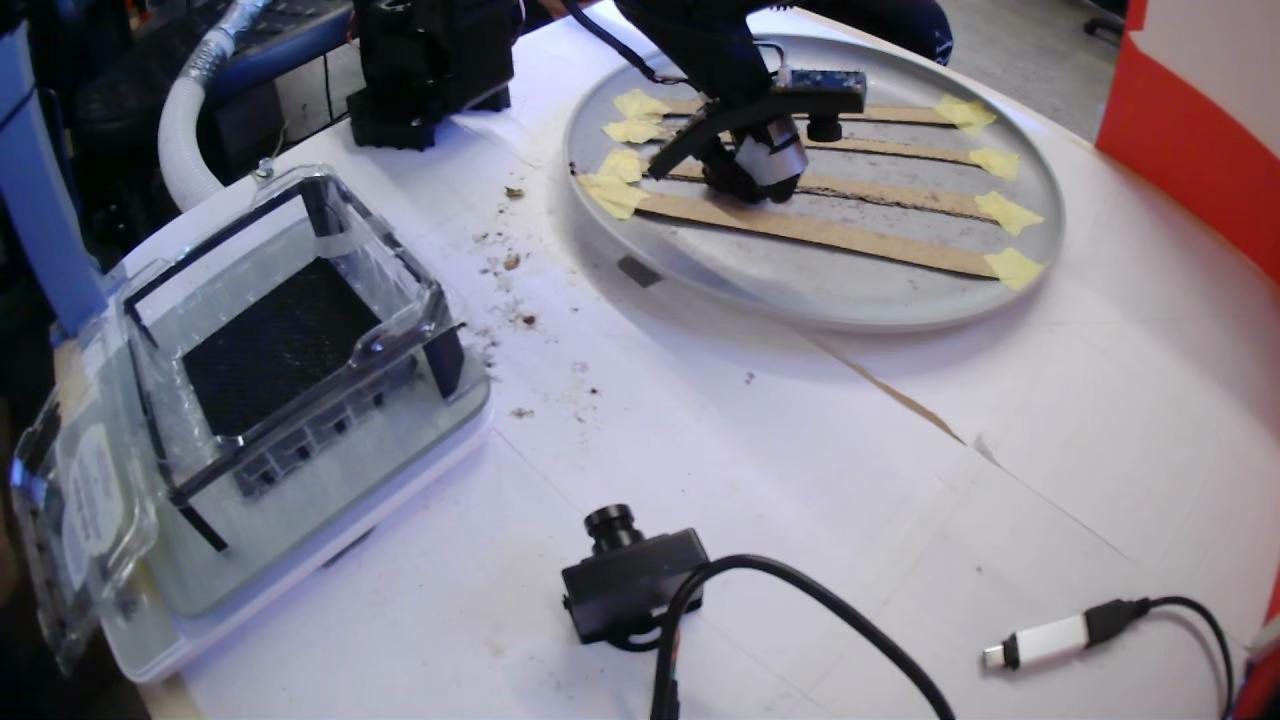berry: (702, 157, 762, 203)
